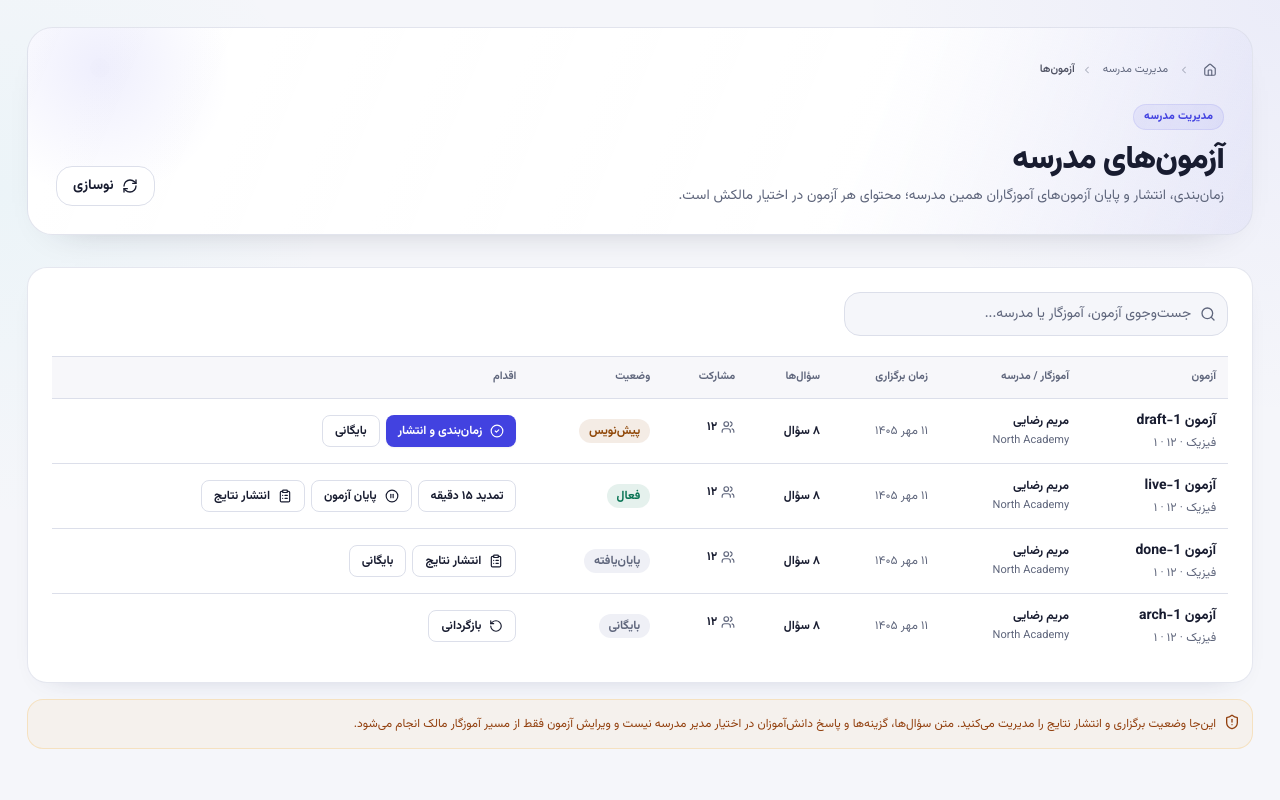
it: admin exam lifecycle › passes a refused action straight to the teacher instead of swallowing it
Click the button "زمان‌بندی و انتشار": (451, 431) [386,415,516,447]
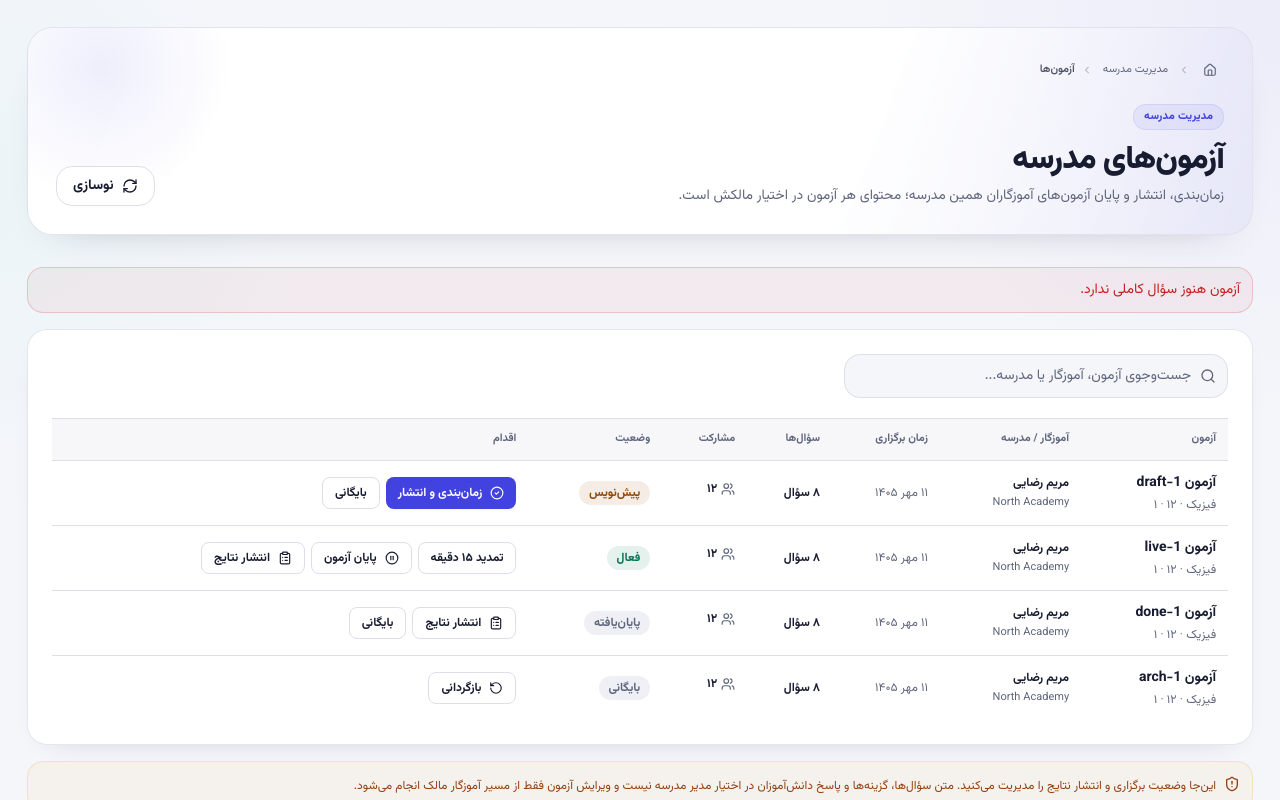
Check: the text "آزمون هنوز سؤال کاملی ندارد." is shown, box [27,267,1253,313]
